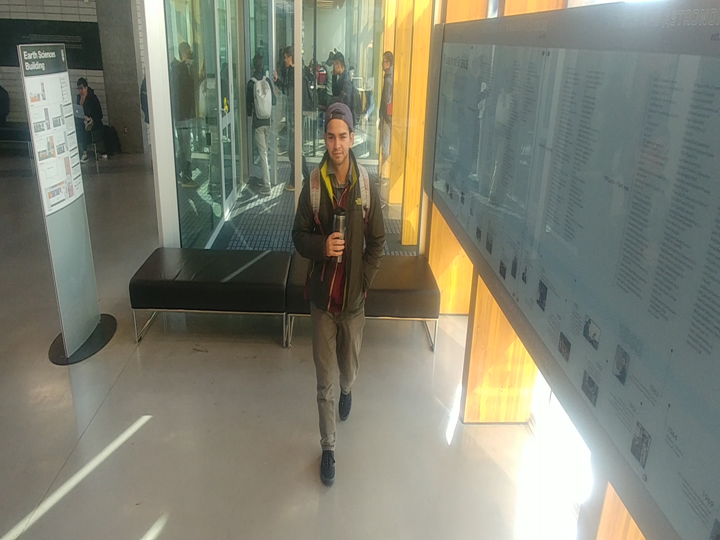face: (321, 99, 358, 169), (324, 48, 352, 78), (173, 37, 197, 66), (375, 45, 397, 72), (248, 50, 269, 76), (278, 43, 297, 70), (70, 75, 90, 100)
human: (286, 100, 388, 494), (165, 35, 204, 192), (279, 43, 317, 202), (242, 50, 279, 197), (70, 74, 111, 165), (323, 46, 365, 114), (375, 50, 395, 190)
